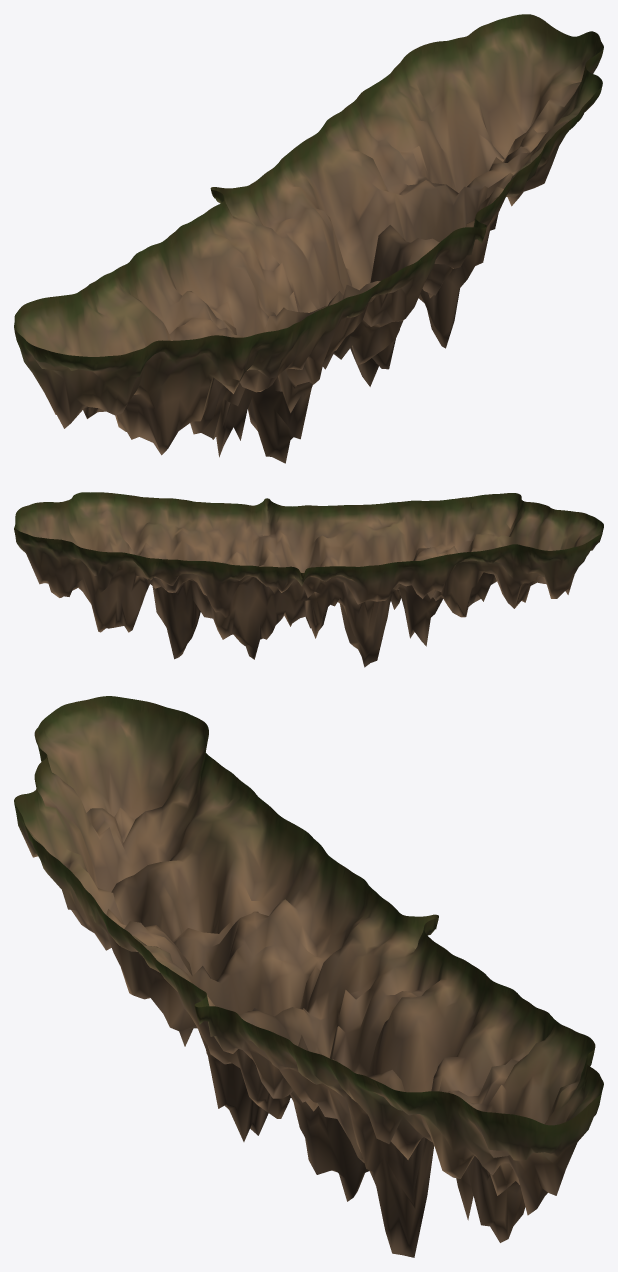
The model's file is SM_H15_IslandRock.fbx.
The picture shows the model from 3 angles, top to bottom: view 1: azimuth 30°, elevation 25°; view 2: azimuth 150°, elevation 25°; view 3: azimuth 270°, elevation 25°; orthographic projection. The views are drawn at different scales.
Visible parts, largest first — view 1: SM_H15_IslandRock; view 2: SM_H15_IslandRock; view 3: SM_H15_IslandRock.
Boxes of the visible parts, x1,y1,x2,y2 form: SM_H15_IslandRock: (14, 14, 603, 463); SM_H15_IslandRock: (14, 492, 603, 667); SM_H15_IslandRock: (14, 696, 603, 1257).
Size of the model in its own units: 378 by 117 by 230.
